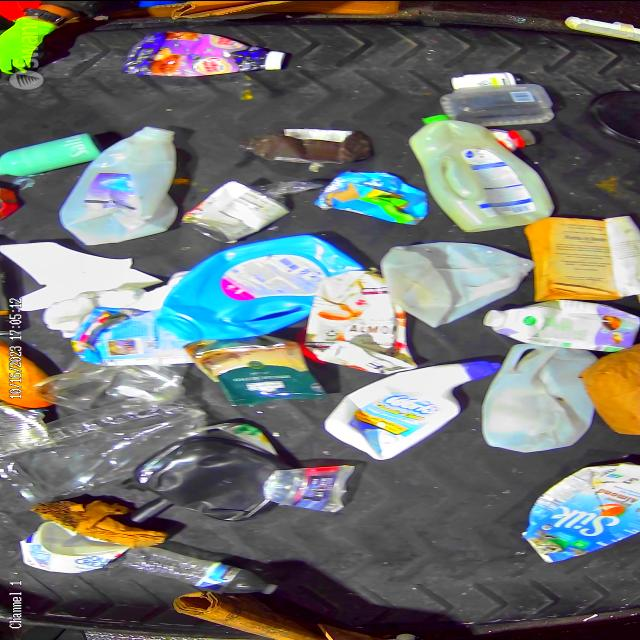milk_jug: (396, 110, 552, 227), (52, 122, 186, 248), (472, 341, 600, 457), (375, 241, 537, 325)
non_white_jug: (144, 235, 354, 337), (518, 466, 638, 568)
plastic_bottle: (4, 402, 188, 500), (47, 362, 186, 424), (118, 545, 274, 588)
